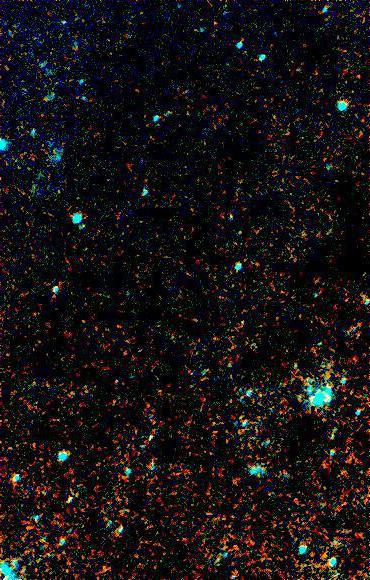star: (348, 317, 370, 347)
